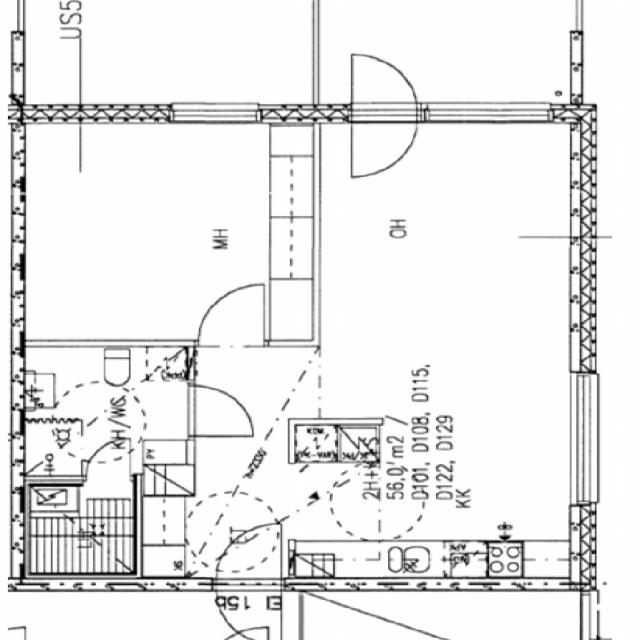door: (348, 105, 414, 180), (348, 48, 414, 122), (216, 521, 282, 590), (216, 578, 282, 640), (198, 284, 262, 347), (187, 386, 252, 435), (86, 438, 130, 482)
